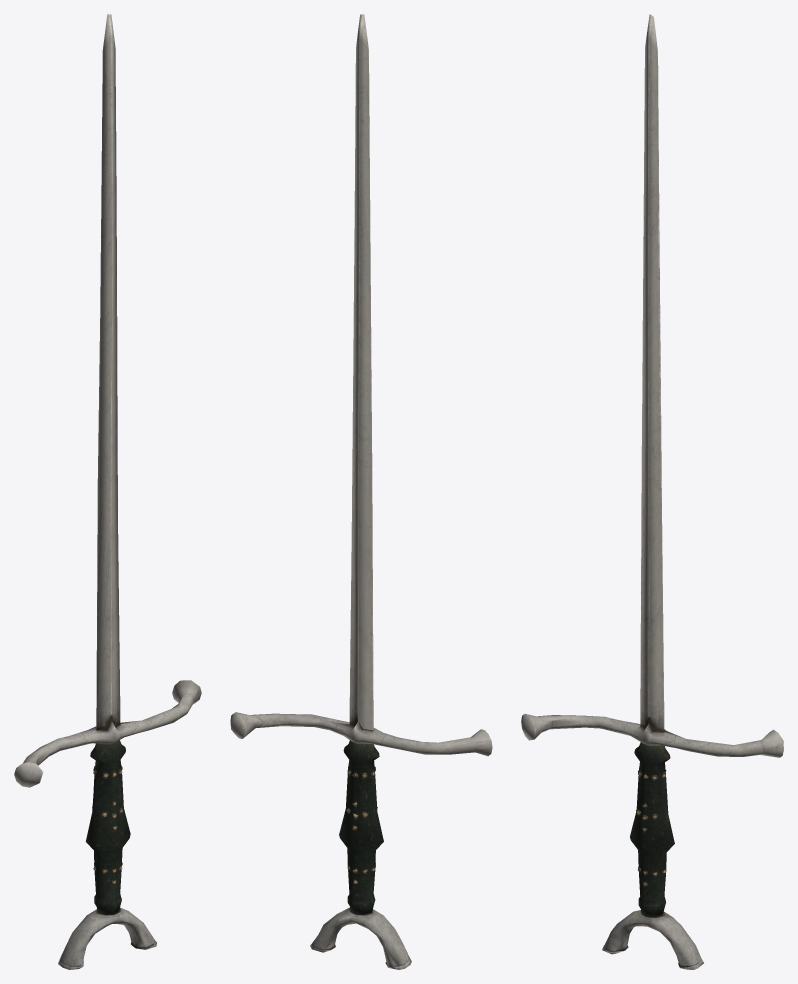
Rendered from weapon_estoc_01.glb.
3 renders of one model, left to right at view 1: azimuth 30°, elevation 25°; view 2: azimuth 150°, elevation 25°; view 3: azimuth 330°, elevation 25°, orthographic.
Parts seen in each view (by area): view 1: weapon_estoc_01; view 2: weapon_estoc_01; view 3: weapon_estoc_01.
Boxes of the visible parts, x1=… form: weapon_estoc_01: x1=14, y1=14, x2=201, y2=969; weapon_estoc_01: x1=230, y1=14, x2=492, y2=969; weapon_estoc_01: x1=521, y1=14, x2=783, y2=969.
Size of the model in its own units: 0.3724 by 1.49 by 0.1491.
1 material, 1 textured.
